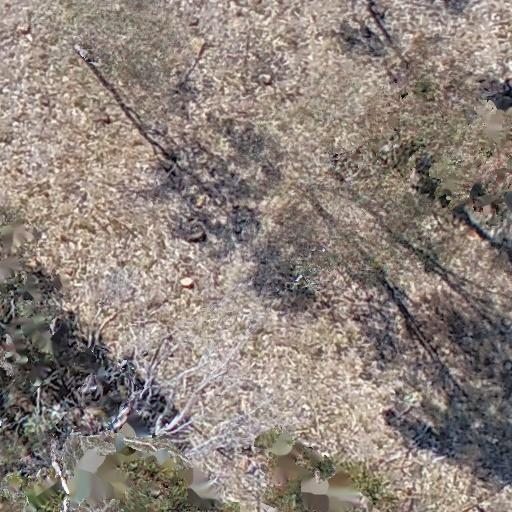stone: (188, 36, 206, 56), (179, 276, 194, 288), (258, 72, 272, 84), (17, 23, 31, 35), (195, 194, 207, 208), (188, 16, 200, 27)
